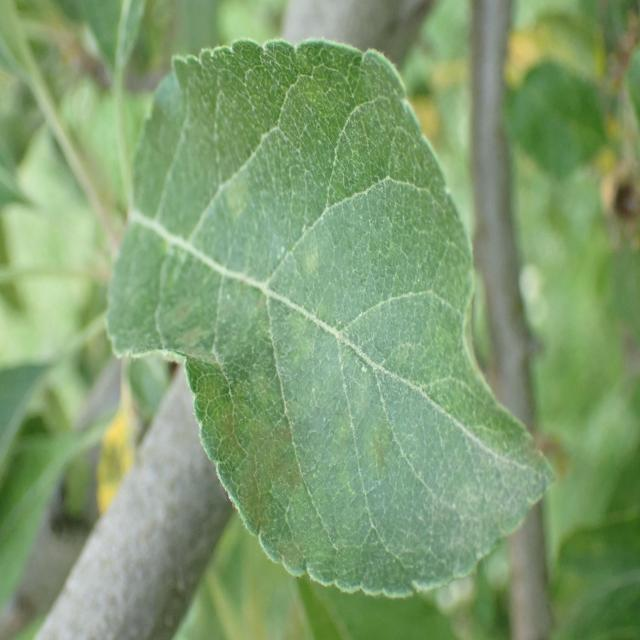scab: (144, 91, 498, 587)
